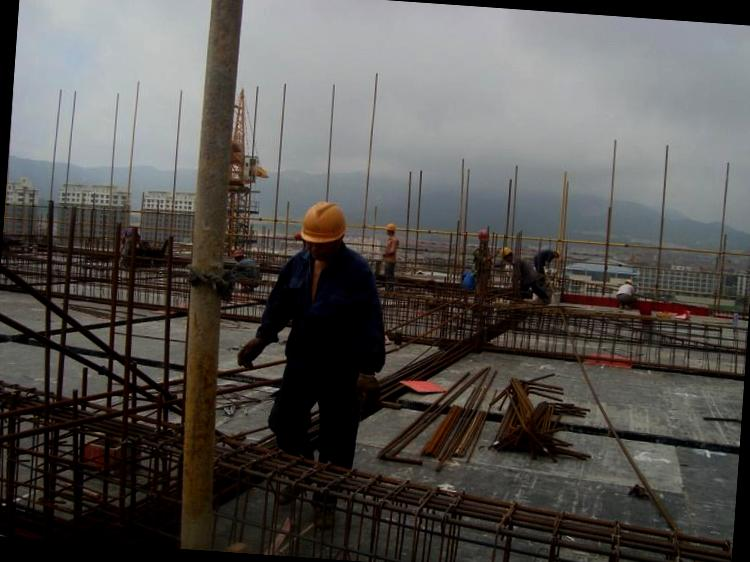helmet: (298, 198, 348, 247)
no_vest: (270, 249, 368, 374)
person: (252, 183, 384, 474)
